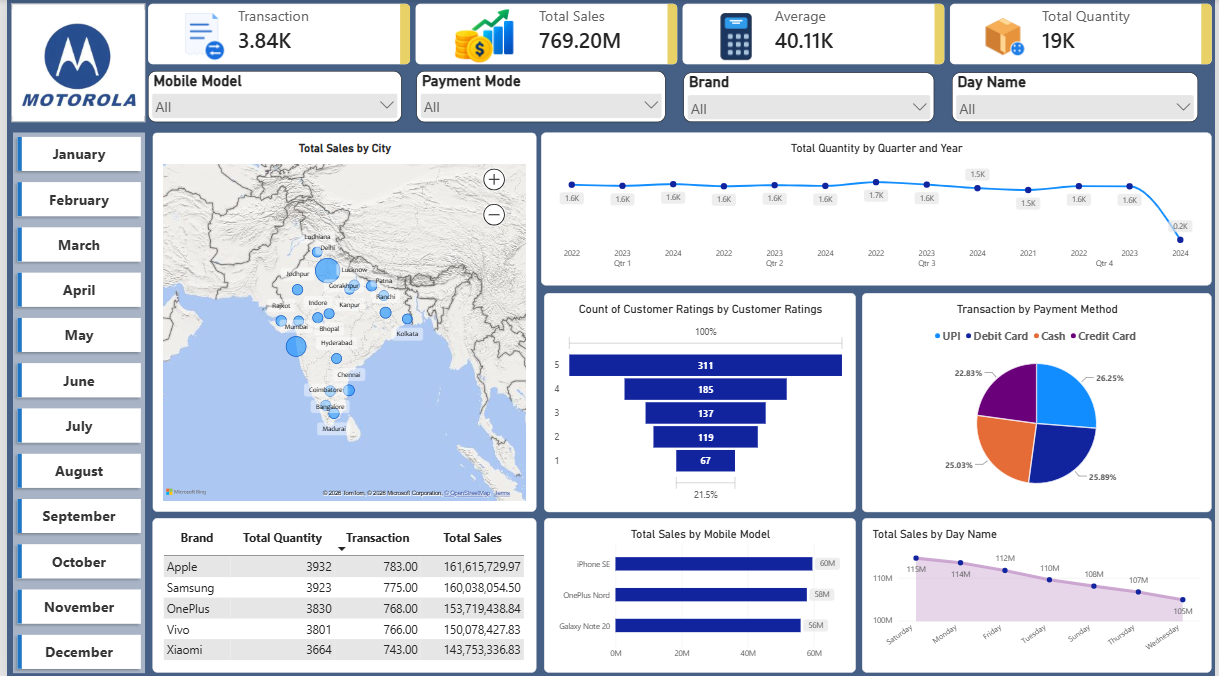

The page's visual inventory and layout, read from the dashboard file:
{"tool":"powerbi","page":{"name":"Page 1","canvas":[1920,1080],"ordinal":0},"visuals":[{"type":"image","box":[7.5,7.5,212.5,188.8],"z":0},{"type":"advancedSlicerVisual","fields":{"Values":["Sale_Date2.Date.Variation.Date Hierarchy.Month"]},"box":[10,211.2,210,860],"z":1000},{"type":"map","fields":{"Category":["Sale_Date2.City"],"Size":["Sale_Date2.Total Sales"]},"box":[231.4,212.3,610.8,603.6],"z":2000},{"type":"lineChart","fields":{"Category":["Sale_Date2.Date.Variation.Date Hierarchy.Quarter","Sale_Date2.Date.Variation.Date Hierarchy.Year"],"Y":["Sale_Date2.Total Quantity"]},"box":[849.4,212.3,1066.5,243.4],"z":3000},{"type":"clusteredBarChart","fields":{"Category":["Sale_Date2.Mobile Model"],"Y":["Sale_Date2.Total Sales"]},"box":[854.2,825.5,496.3,245.7],"z":4000},{"type":"pieChart","fields":{"Category":["Sale_Date2.Payment Method"],"Y":["Sale_Date2.Transaction"]},"box":[1360,467.6,555.9,348.3],"z":5000},{"type":"funnel","fields":{"Category":["Sale_Date2.Customer Ratings"],"Y":["CountNonNull(Sale_Date2.Customer Ratings)"]},"box":[854.2,467.6,496.3,348.3],"z":6000},{"type":"areaChart","title":"Total Sales by Day Name","fields":{"Category":["Sale_Date2.Day Name.1"],"Y":["Sale_Date2.Total Sales"]},"box":[1360,825.5,555.9,245.7],"z":7000},{"type":"tableEx","fields":{"Values":["Sale_Date2.Brand","Sale_Date2.Total Quantity","Sale_Date2.Transaction","Sale_Date2.Total Sales"]},"box":[231.4,825.5,610.8,245.7],"z":8000},{"type":"cardVisual","fields":{"Data":["Sale_Date2.Transaction","Sale_Date2.Total Sales","Sale_Date2.Average","Sale_Date2.Total Quantity"]},"box":[225,7.5,1692.5,97.5],"z":9000},{"type":"slicer","fields":{"Values":["Sale_Date2.Mobile Model"]},"box":[224.3,114.5,403.2,81.1],"z":11000},{"type":"slicer","fields":{"Values":["Sale_Date2.Payment Method"]},"box":[651.2,115,396.2,81.2],"z":12000},{"type":"slicer","fields":{"Values":["Sale_Date2.Brand"]},"box":[1076.2,117.5,398.8,78.8],"z":13000},{"type":"slicer","fields":{"Values":["Sale_Date2.Day Name.1"]},"box":[1503.8,117.5,391.2,78.8],"z":14000}]}

Visuals, with their boxes in screenshot pixels (x1, y1, x2, y2), scaled from the page's 1920x1080 canvas onto the 1219x676 screenshot:
image: Rect(5, 5, 140, 123)
advancedSlicerVisual - Sale_Date2.Date.Variation.Date Hierarchy.Month: Rect(6, 132, 140, 670)
map - Sale_Date2.City x Sale_Date2.Total Sales: Rect(147, 133, 535, 511)
lineChart - Sale_Date2.Date.Variation.Date Hierarchy.Quarter x Sale_Date2.Date.Variation.Date Hierarchy.Year: Rect(539, 133, 1216, 285)
clusteredBarChart - Sale_Date2.Mobile Model x Sale_Date2.Total Sales: Rect(542, 517, 857, 670)
pieChart - Sale_Date2.Payment Method x Sale_Date2.Transaction: Rect(863, 293, 1216, 511)
funnel - Sale_Date2.Customer Ratings x CountNonNull(Sale_Date2.Customer Ratings): Rect(542, 293, 857, 511)
"Total Sales by Day Name" areaChart: Rect(863, 517, 1216, 670)
tableEx - Sale_Date2.Brand x Sale_Date2.Total Quantity: Rect(147, 517, 535, 670)
cardVisual - Sale_Date2.Transaction x Sale_Date2.Total Sales: Rect(143, 5, 1217, 66)
slicer - Sale_Date2.Mobile Model: Rect(142, 72, 398, 122)
slicer - Sale_Date2.Payment Method: Rect(413, 72, 665, 123)
slicer - Sale_Date2.Brand: Rect(683, 74, 936, 123)
slicer - Sale_Date2.Day Name.1: Rect(955, 74, 1203, 123)
